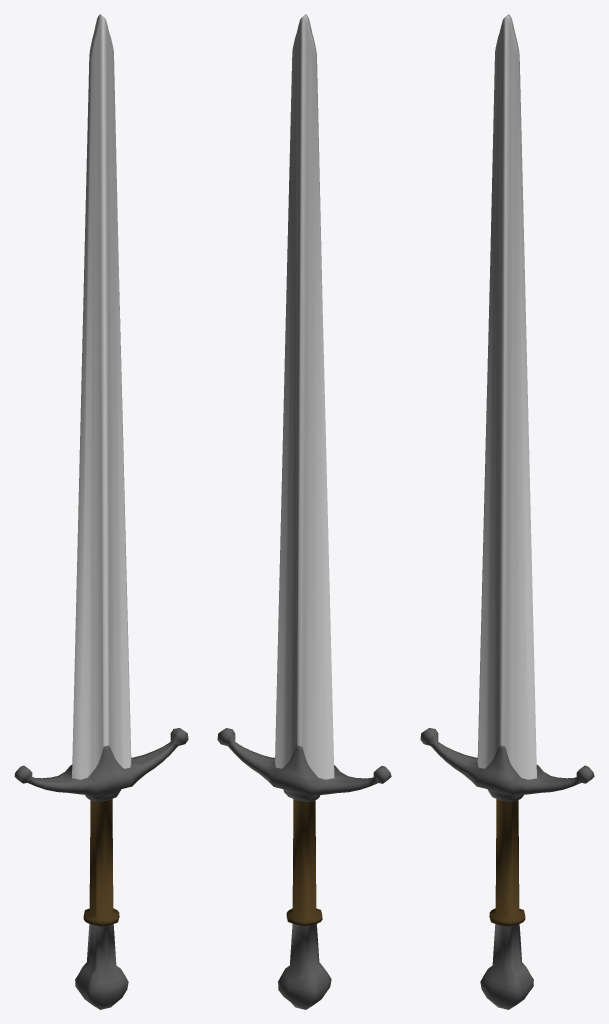
Rendered from great_sword.fbx.
The picture shows the model from 3 angles, left to right: view 1: azimuth 30°, elevation 25°; view 2: azimuth 150°, elevation 25°; view 3: azimuth 330°, elevation 25°; orthographic projection.
Visible parts, largest first — view 1: Great Sword; view 2: Great Sword; view 3: Great Sword.
Part boxes in pixels (x1,y1,x2,y2): Great Sword: (14, 14, 188, 1009); Great Sword: (217, 14, 391, 1009); Great Sword: (420, 14, 594, 1009).
Size of the model in its own units: 83.65 by 467 by 21.41.
